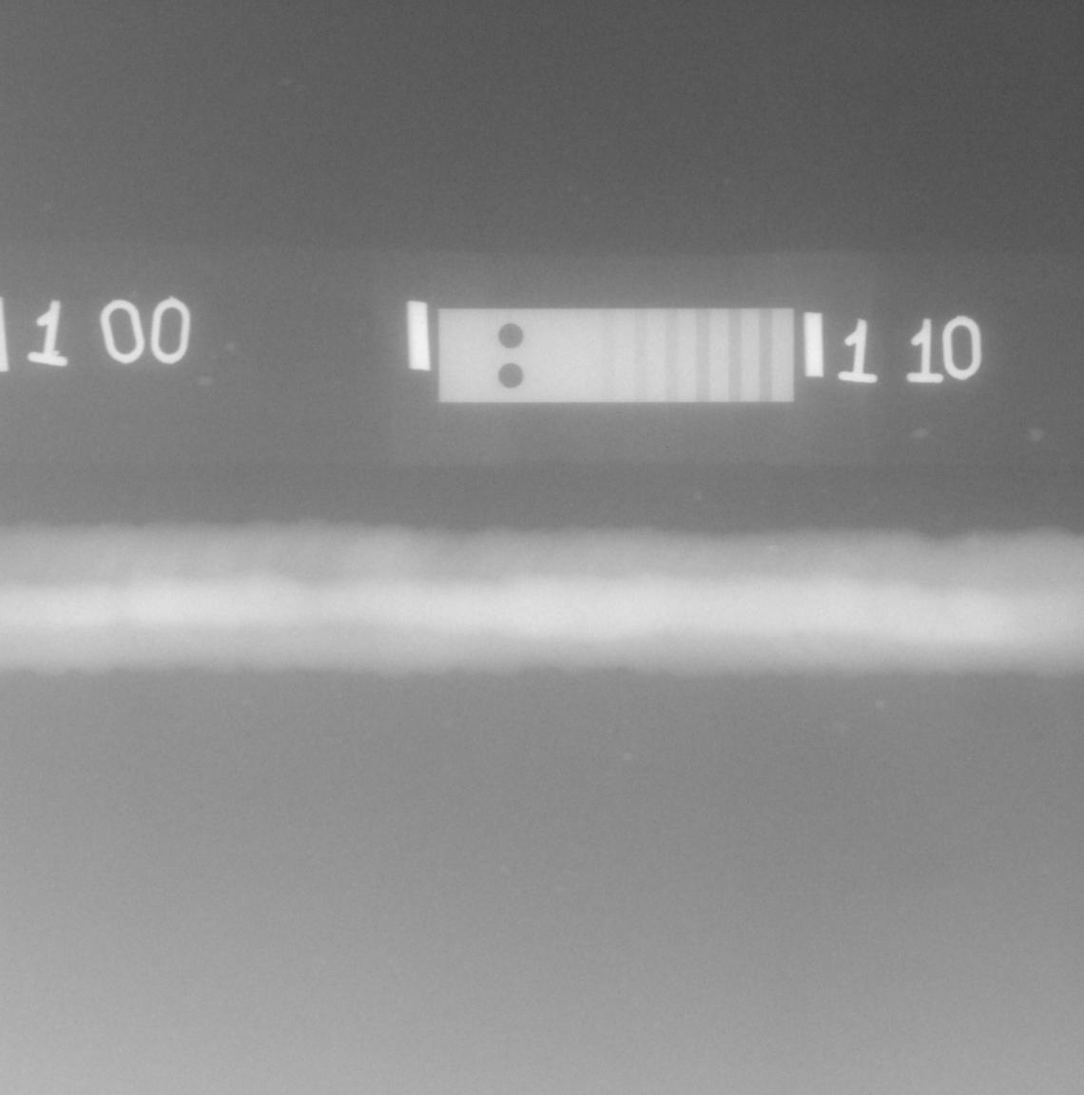Reference Standard 2: (438, 308, 795, 404)
